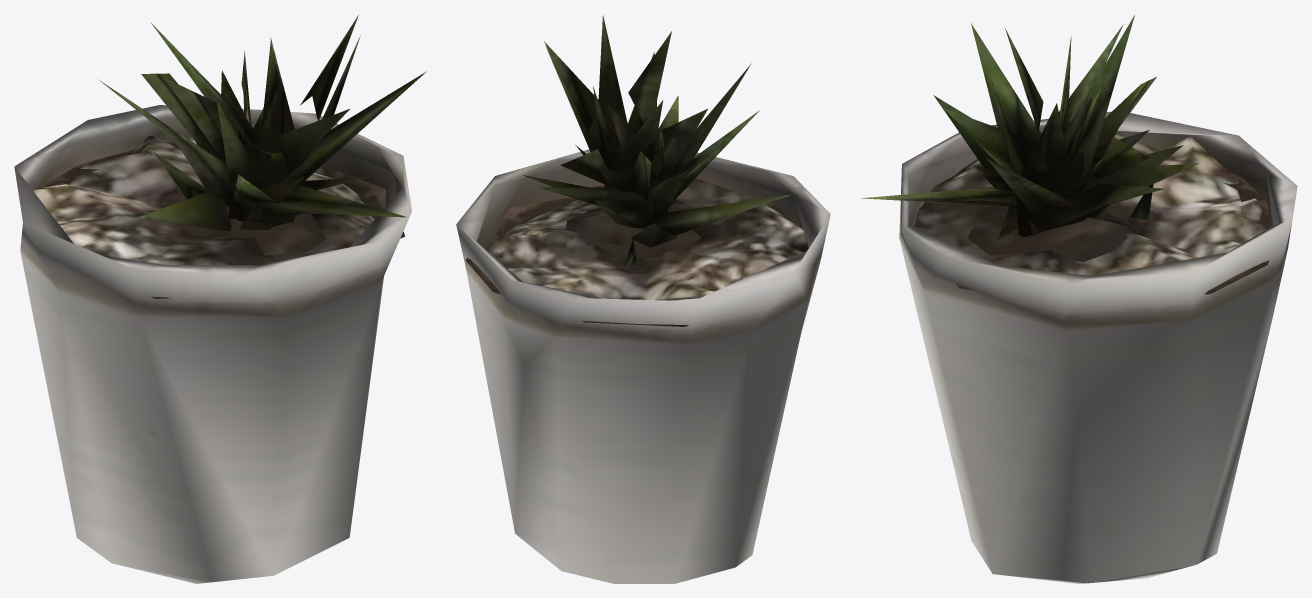
The model's file is plant_small.glb.
3 renders of one model, left to right at view 1: azimuth 30°, elevation 25°; view 2: azimuth 150°, elevation 25°; view 3: azimuth 270°, elevation 25°, orthographic. The views are drawn at different scales.
Parts seen in each view (by area): view 1: plant_small; view 2: plant_small; view 3: plant_small.
Part boxes in pixels (left/top/right/bottom): plant_small: left=14, top=15, right=426, bottom=583; plant_small: left=456, top=15, right=830, bottom=583; plant_small: left=862, top=15, right=1297, bottom=583.
Size of the model in its own units: 0.1655 by 0.2322 by 0.1771.
Materials: 1 (1 with a texture image).
